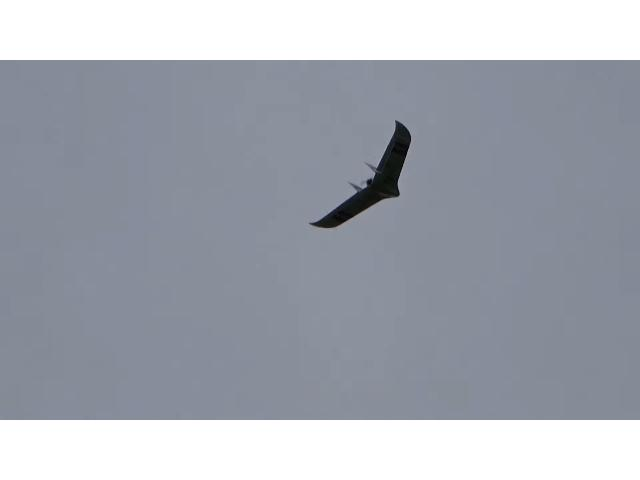Anti-Drone: (310, 121, 412, 232)
